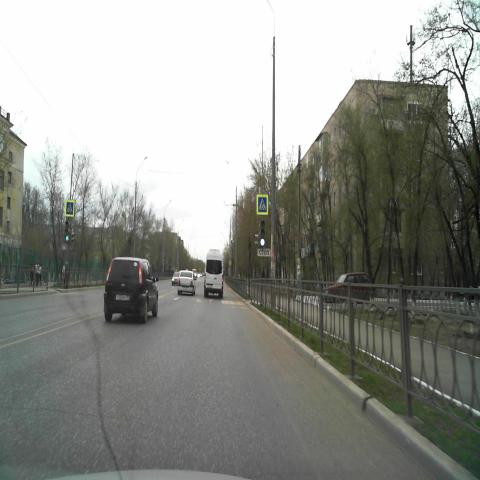6_16: (258, 248, 271, 257)
